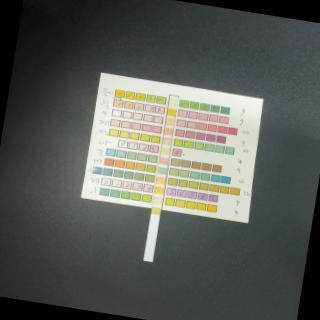mark: (158, 167, 168, 175), (169, 98, 178, 106), (167, 118, 176, 126), (156, 177, 166, 184), (152, 197, 162, 204), (154, 187, 164, 194), (168, 108, 176, 116), (165, 128, 172, 136), (160, 158, 168, 165), (162, 148, 170, 155), (152, 208, 160, 215), (163, 138, 171, 144)
